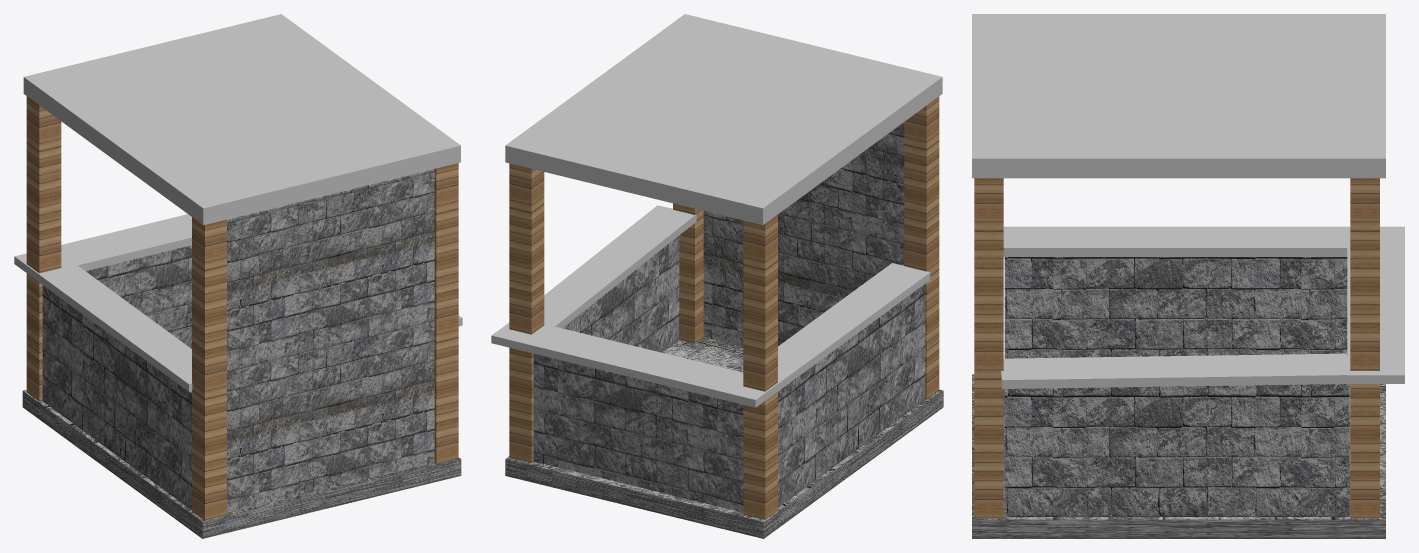
The model's file is barraca.obj.
The picture shows the model from 3 angles, left to right: view 1: azimuth 30°, elevation 25°; view 2: azimuth 150°, elevation 25°; view 3: azimuth 270°, elevation 25°; orthographic projection. The views are drawn at different scales.
Parts seen in each view (by area): view 1: Box010, Box006, Box013, Box008, Box005, Box002, Box009, Box014, Box011, Box016; view 2: Box006, Box011, Box010, Box013, Box005, Box002, Box007, Box016, Box008, Box012, Box015, Box014 (+1 smaller); view 3: Box006, Box012, Box013, Box005, Box015, Box014, Box009, Box007, Box016.
Part boxes in pixels (box(x1,y1,x2,y2)): Box010: box(227, 169, 434, 513); Box006: box(23, 14, 460, 225); Box013: box(42, 285, 191, 509); Box008: box(192, 217, 226, 520); Box005: box(22, 389, 461, 538); Box002: box(26, 96, 61, 401); Box009: box(434, 163, 458, 463); Box014: box(38, 265, 192, 391); Box011: box(86, 245, 191, 348); Box016: box(14, 214, 191, 280); Box006: box(505, 14, 942, 225); Box011: box(533, 353, 743, 512); Box010: box(703, 122, 904, 346); Box013: box(778, 284, 925, 507); Box005: box(505, 337, 943, 538); Box002: box(743, 214, 777, 519); Box007: box(509, 163, 544, 462); Box016: box(491, 323, 779, 407); Box008: box(904, 96, 939, 399); Box012: box(562, 236, 679, 352); Box015: box(544, 205, 696, 328); Box014: box(742, 263, 930, 389); Box006: box(972, 14, 1385, 178); Box012: box(1004, 384, 1349, 516); Box013: box(1004, 257, 1347, 358); Box005: box(972, 374, 1385, 538); Box015: box(1001, 353, 1348, 388); Box014: box(1003, 226, 1349, 256); Box009: box(974, 178, 1003, 518); Box007: box(1350, 178, 1379, 518); Box016: box(1347, 226, 1404, 383).
Bounding box in the file's own units: 37.07 × 42.81 × 44.16.
